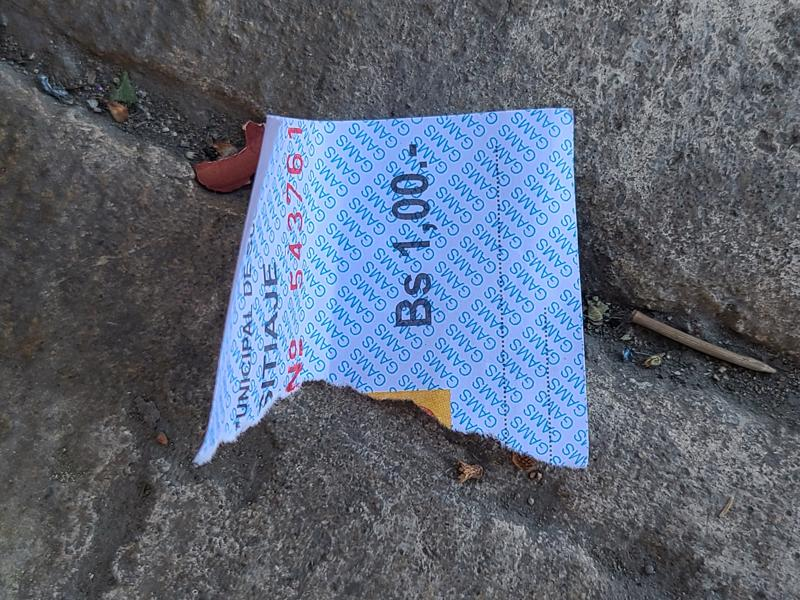papel: (194, 108, 590, 473)
